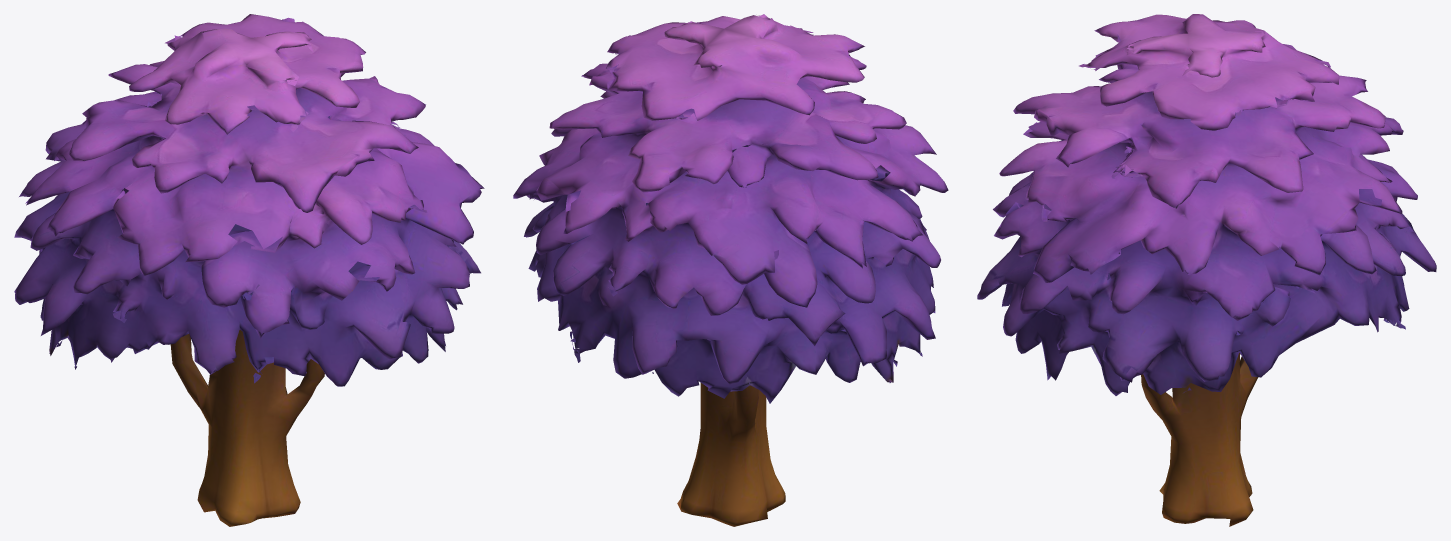
Rendered from tree-purple.glb.
3 renders of one model, left to right at view 1: azimuth 30°, elevation 25°; view 2: azimuth 150°, elevation 25°; view 3: azimuth 270°, elevation 25°, orthographic.
Visible parts, largest first — view 1: tripo_node_c825526e-b465-4b60-8744-bf52e5da3d91; view 2: tripo_node_c825526e-b465-4b60-8744-bf52e5da3d91; view 3: tripo_node_c825526e-b465-4b60-8744-bf52e5da3d91.
Boxes of the visible parts, bbox=[...] form: tripo_node_c825526e-b465-4b60-8744-bf52e5da3d91: bbox=[14, 14, 484, 526]; tripo_node_c825526e-b465-4b60-8744-bf52e5da3d91: bbox=[513, 14, 948, 526]; tripo_node_c825526e-b465-4b60-8744-bf52e5da3d91: bbox=[977, 14, 1436, 526].
Size of the model in its own units: 0.9037 by 0.9983 by 0.8795.
Materials: 1 (1 with a texture image).
